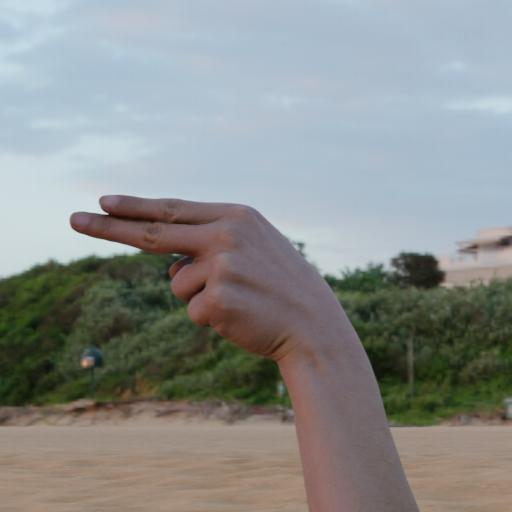H: (63, 172, 361, 412)
